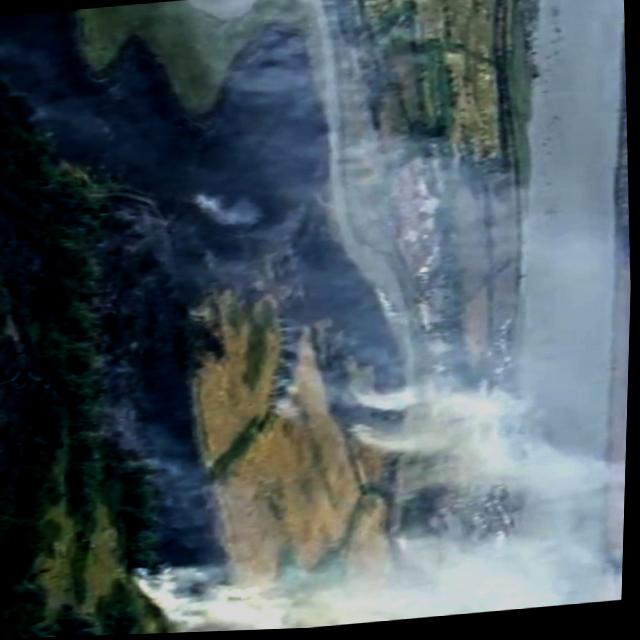smoke: (198, 546, 627, 634)
